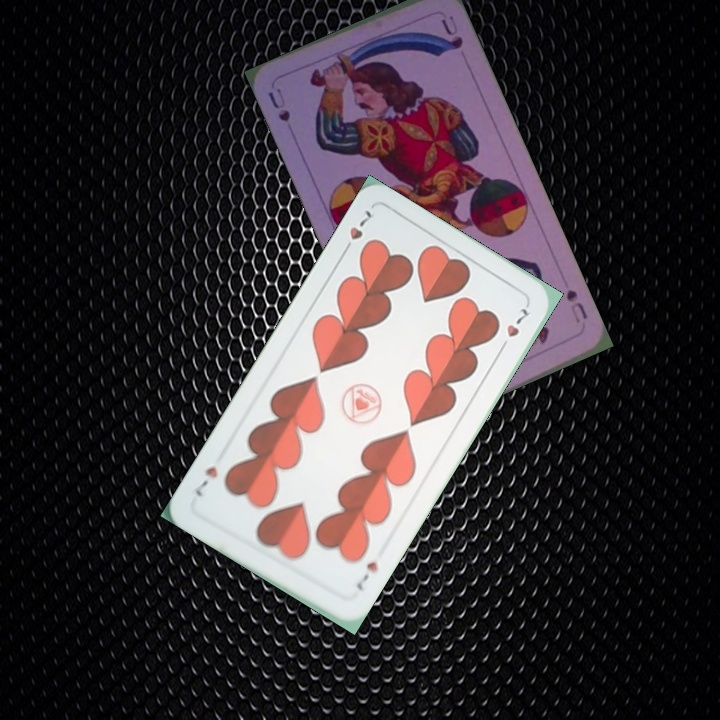H7: (338, 206, 374, 258), (352, 557, 381, 593)
SU: (263, 84, 293, 125), (562, 285, 591, 322)
